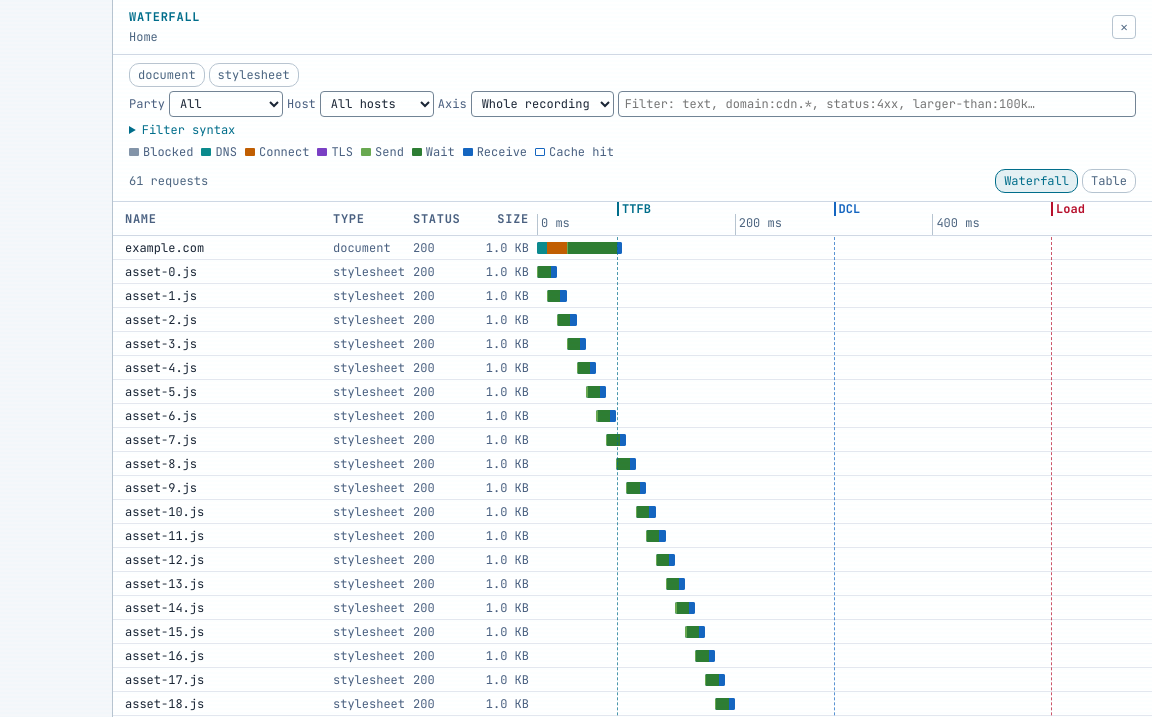
WaterfallPanel render cost › keeps typing responsive: the search settles after the input
Type "asset-5" into the search field at [877, 104], box x1=618 y1=91 x2=1136 y2=117
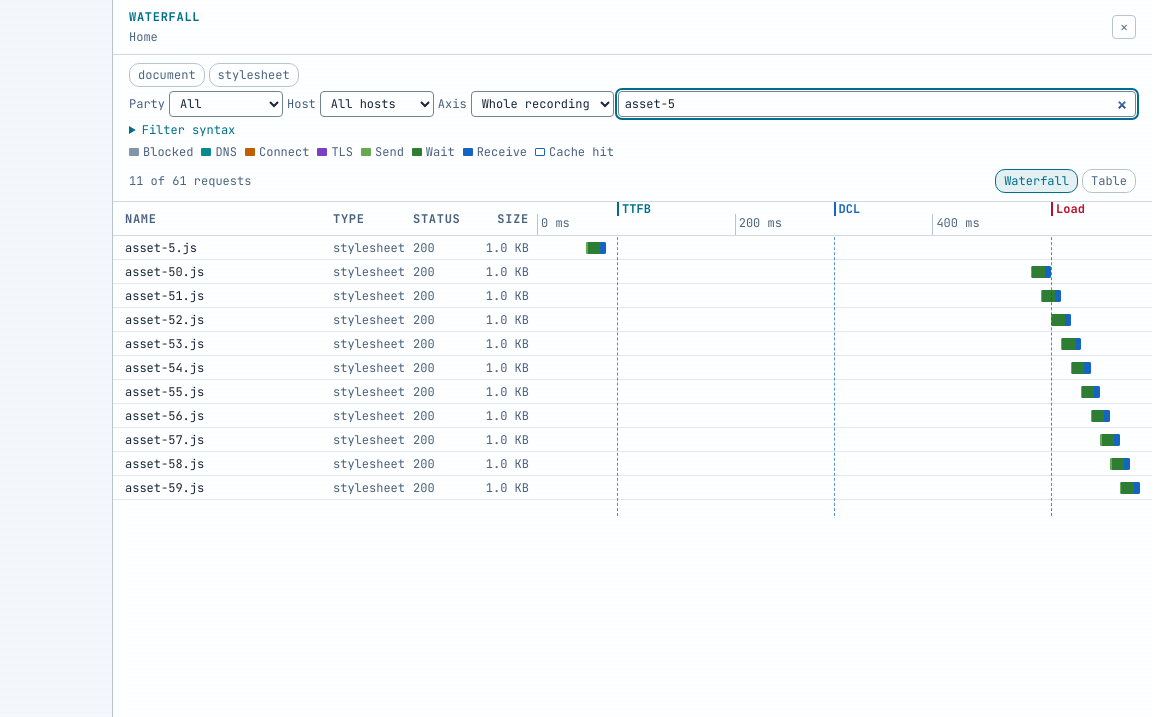
Expected: the button "asset-5.js stylesheet 200 1.0 KB" is shown, x1=113 y1=236 x2=1152 y2=260
Expected: the button "asset-6" is gone
